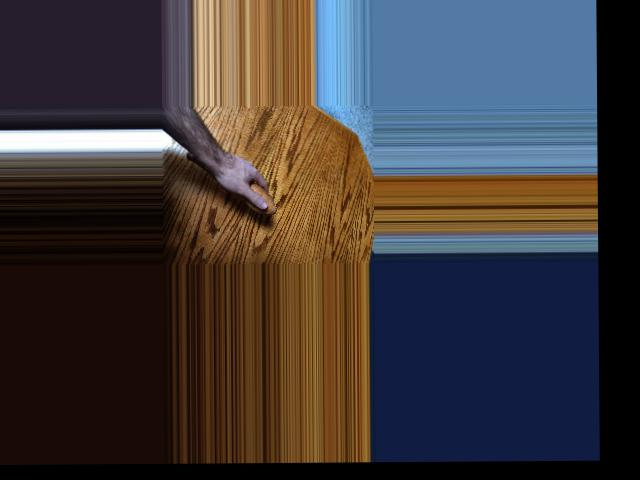sweet_potato: (182, 144, 277, 216)
